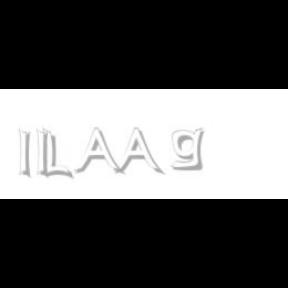A: (73, 128, 121, 176), (113, 128, 161, 176)
L: (42, 128, 70, 180)
g: (170, 128, 208, 171)
l: (19, 128, 35, 180), (36, 128, 52, 180)
